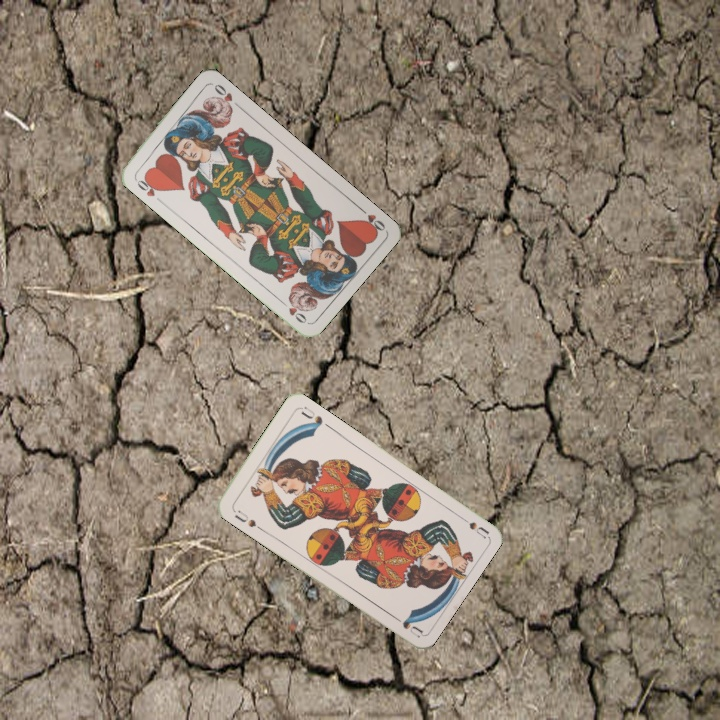HO: (354, 202, 388, 236), (130, 172, 164, 205)
SU: (453, 510, 490, 540), (229, 505, 265, 533)
